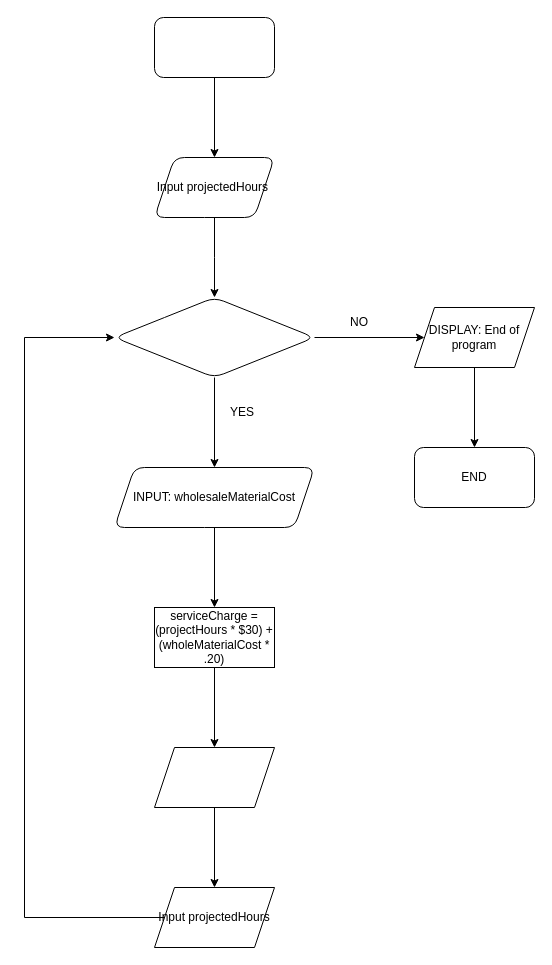
Some shapes in this 552 by 965 pixel diagram are drawn without their labels. The shapes that lost their labels are listed below. From the top down, each one's centre as x and y in pixels, then its label:
pixel 214 47: START
pixel 214 337: Decision: projectedHours = 0
pixel 214 777: DISPLAY results
